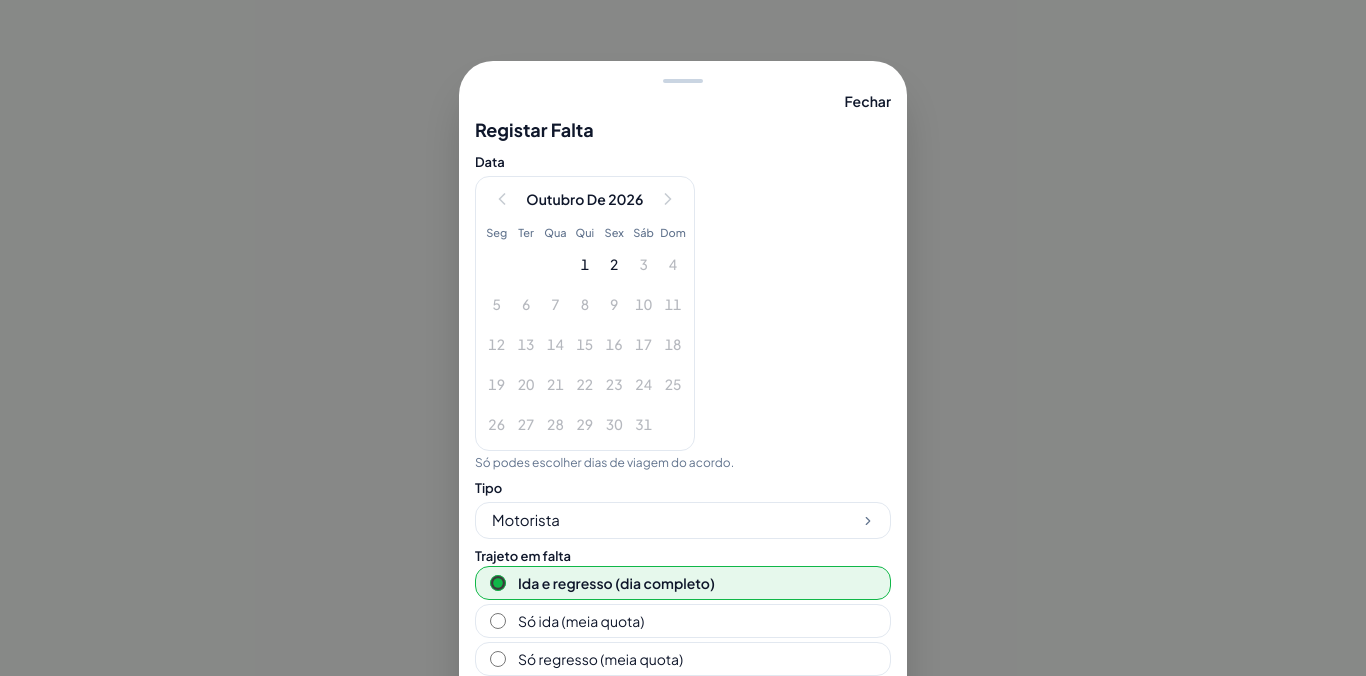
Test: LogAbsenceModal — meia quota › mostra trajeto em falta e copy de meia quota sem divisores fixos
Expected: the radio button labelled "Só ida (meia quota)" is shown, [490,613,506,629]
Expected: the radio button labelled "Só regresso (meia quota)" is shown, [490,651,506,667]
Click the button with test id "falta-dia-2026-10-02" at (614,264), box [602,246,627,282]
(page scrolled)
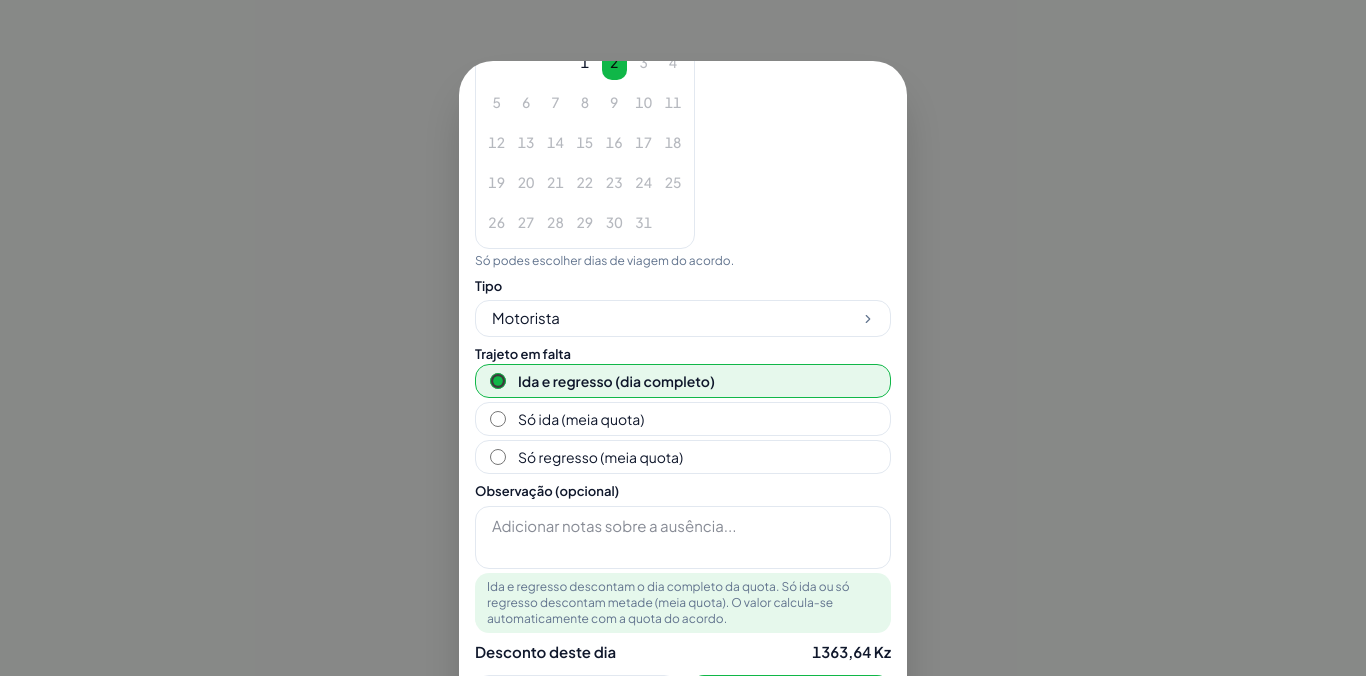
Expected: the element with test id "falta-desconto-dia" shows "1363,64 Kz", [475,637,891,667]
